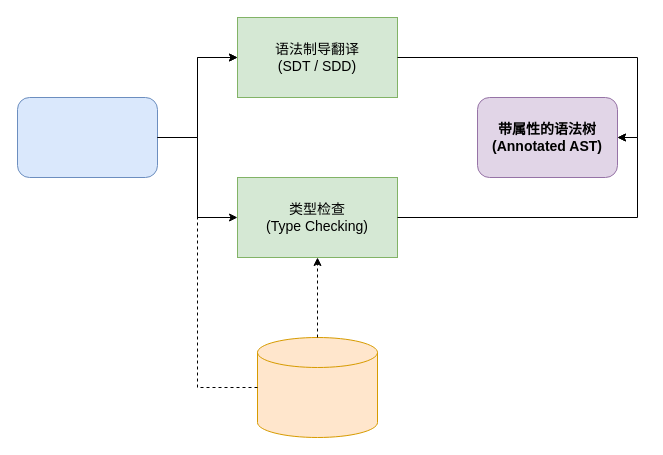
The diagram is 663 pixels wide and 455 high, and some of its shapes have lost their labels. The centre of each missing label's shape, as x and y in pixels:
"符号表管理 (Symbol Table)" belongs at point (317, 387).
"语法树 (Syntax Tree)" belongs at point (87, 137).
